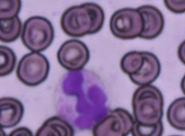N: (54, 67, 112, 131)
